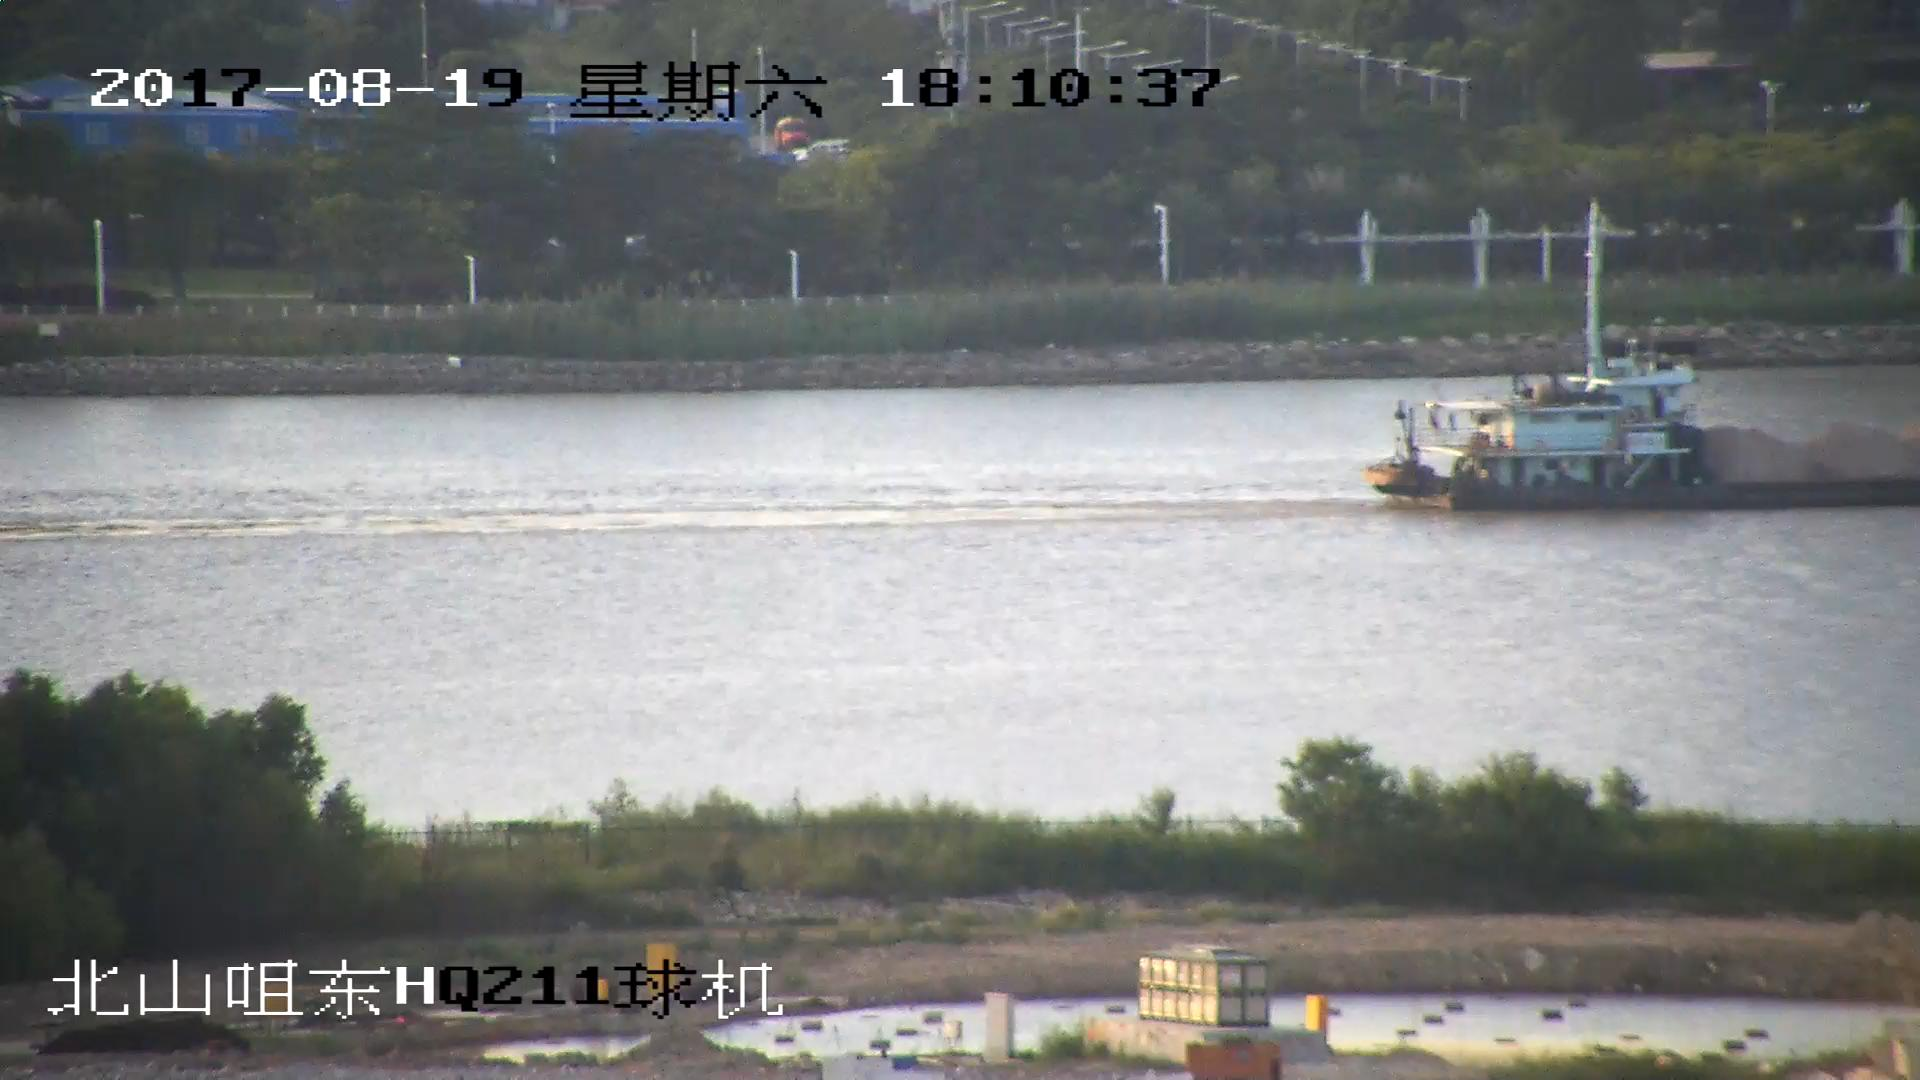ore carrier: (1367, 202, 1920, 522)
